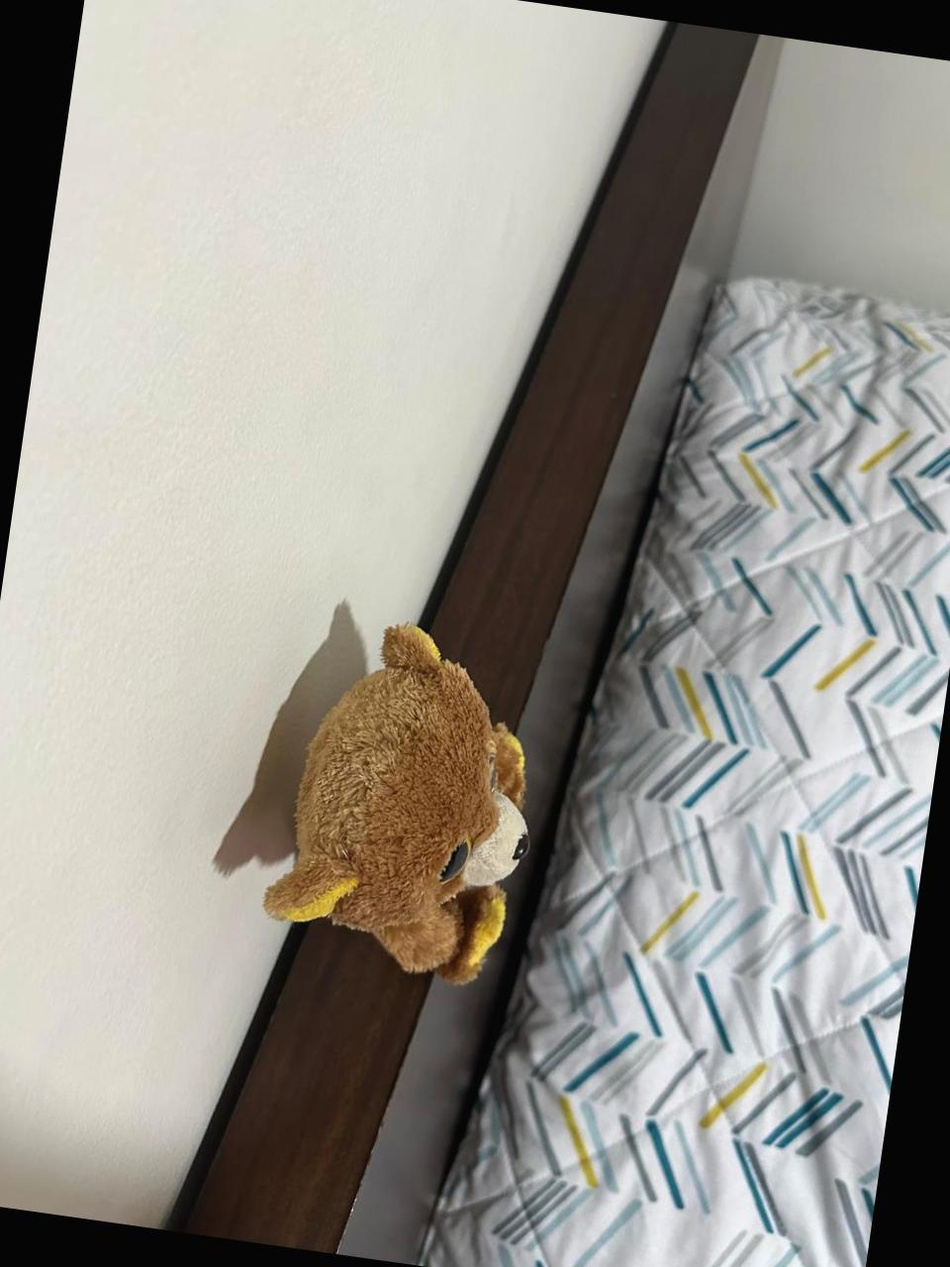peluche_sebastian: (255, 610, 559, 991)
